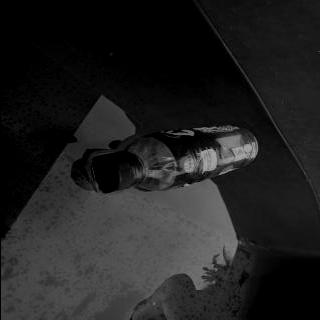bottle: (88, 125, 258, 193)
